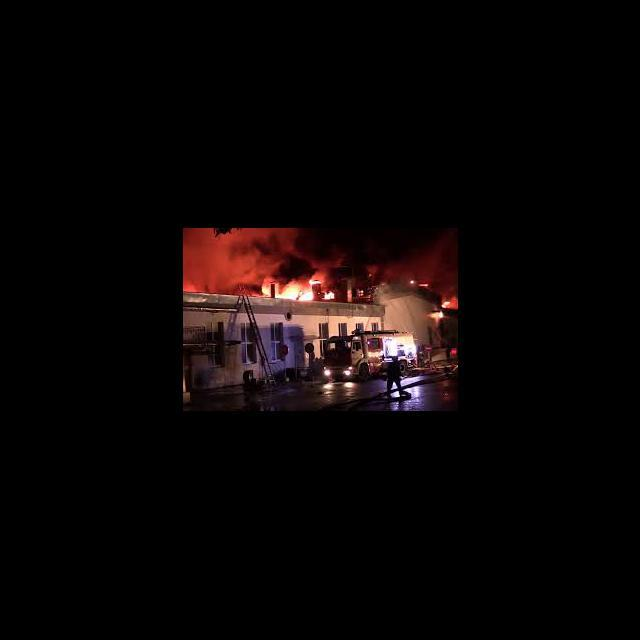Fire: (275, 278, 299, 298), (322, 288, 337, 302), (261, 278, 270, 296), (441, 298, 457, 307), (300, 290, 314, 300), (430, 310, 444, 320), (308, 276, 324, 284)
